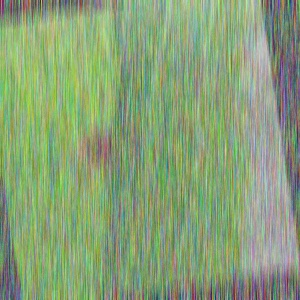Bacterial_Leaf_Blight: (80, 132, 124, 159), (232, 49, 252, 68), (109, 126, 127, 138), (195, 137, 212, 149), (223, 94, 238, 105), (218, 113, 232, 123), (243, 17, 254, 28), (216, 23, 228, 33), (198, 106, 210, 116), (193, 63, 206, 72), (207, 86, 218, 93)
